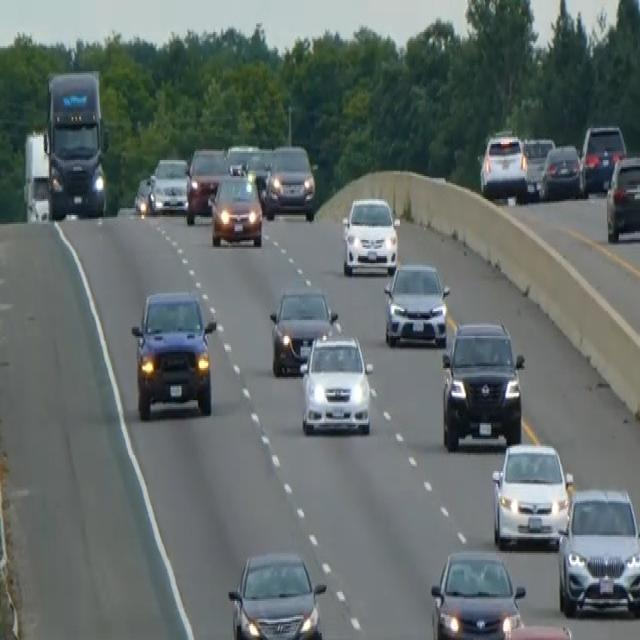car: (130, 288, 216, 420), (440, 318, 525, 450), (556, 485, 639, 617), (491, 441, 573, 549), (227, 550, 327, 638), (429, 548, 525, 638), (299, 329, 373, 435), (269, 286, 339, 375), (383, 260, 450, 346), (341, 194, 399, 276), (209, 171, 263, 247), (264, 142, 316, 220), (185, 146, 230, 224), (479, 130, 527, 201), (580, 123, 626, 192), (605, 153, 639, 242), (540, 142, 586, 199), (149, 155, 189, 213), (522, 135, 555, 197), (497, 620, 575, 638), (245, 148, 272, 198), (226, 142, 260, 176), (133, 173, 155, 215)
lorry: (43, 68, 109, 218)
